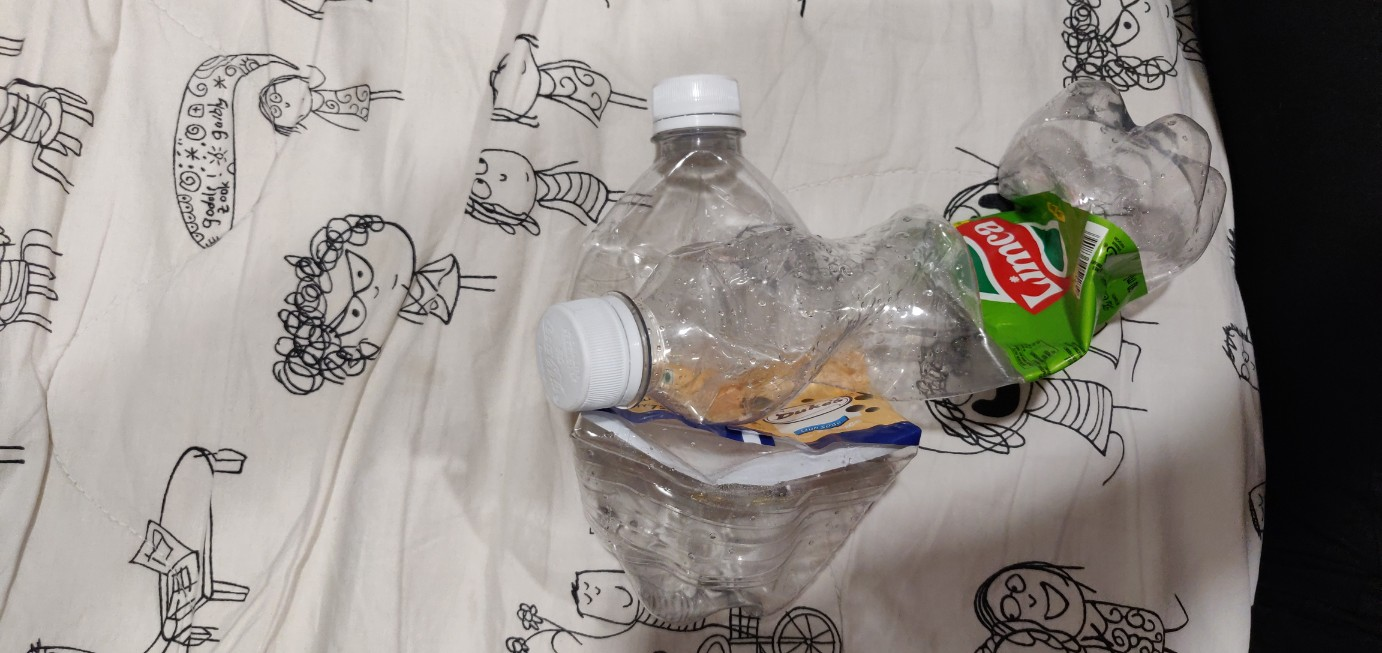Electronics: (524, 73, 1260, 476), (524, 56, 954, 645)
